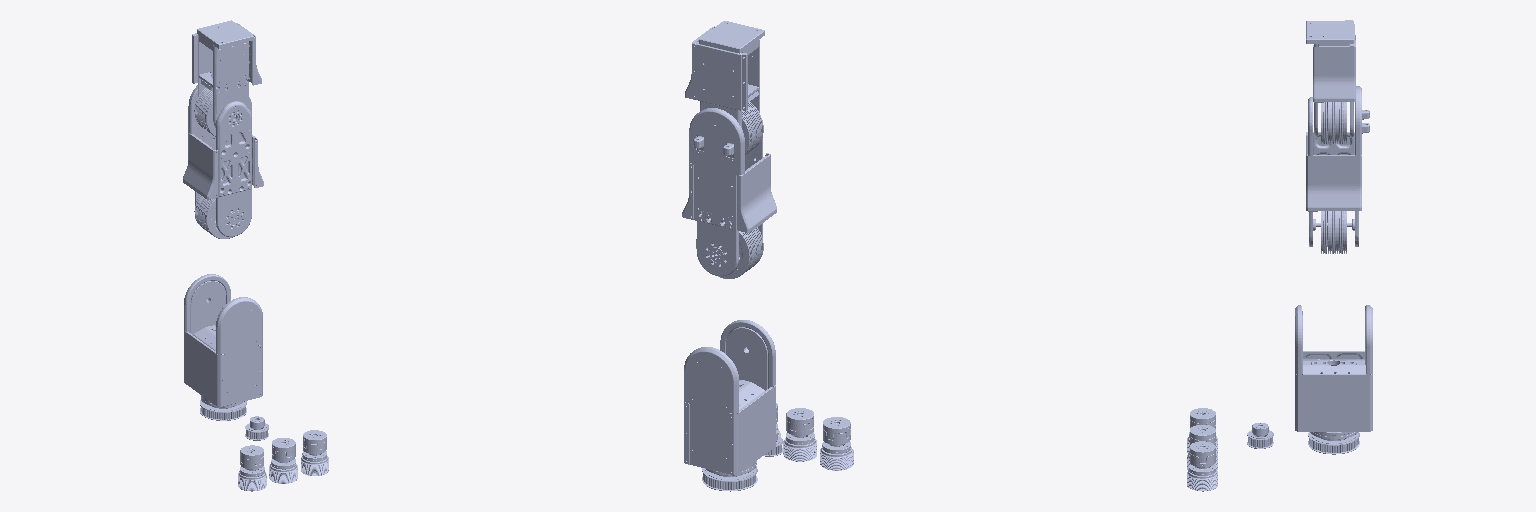
URDF robot description (pmi_description):
<?xml version="1.0" encoding="utf-8"?>
<!-- This URDF was automatically created by SolidWorks to URDF Exporter! Originally created by Stephen Brawner (brawner@gmail.com) 
     Commit Version: 1.6.0-4-g7f85cfe  Build Version: 1.6.7995.38578
     For more information, please see http://wiki.ros.org/sw_urdf_exporter -->
<!-- link1–link4 mass/COM/inertia: same as PMI_Server gravity model (pmi_kinematics / analysis/cpp ControlMain::read_data). -->
<robot
  name="pmi_description">
  <link
    name="base_link">
    <inertial>
      <origin
        xyz="0.00094692 -0.024204 0.07333"
        rpy="0 0 0" />
      <mass
        value="2.1494" />
      <inertia
        ixx="0.011337"
        ixy="-1.3746E-06"
        ixz="-1.6639E-06"
        iyy="0.022966"
        iyz="-5.9757E-05"
        izz="0.01236" />
    </inertial>
    <visual>
      <origin
        xyz="0 0 0"
        rpy="0 0 0" />
      <geometry>
        <mesh
          filename="package://pmi_description2/meshes/base_link.STL" />
      </geometry>
      <material
        name="">
        <color
          rgba="0.79216 0.81961 0.93333 1" />
      </material>
    </visual>
    <collision>
      <origin
        xyz="0 0 0"
        rpy="0 0 0" />
      <geometry>
        <mesh
          filename="package://pmi_description2/meshes/base_link.STL" />
      </geometry>
    </collision>
  </link>
  <link
    name="link1">
    <inertial>
      <origin
        xyz="0.0026336 -1.68446E-05 -0.111117"
        rpy="0 0 0" />
      <mass
        value="10.0123496865811" />
      <inertia
        ixx="0.0829601614566715"
        ixy="-0.000328089653994623"
        ixz="-0.000119428008908532"
        iyy="0.0391199810914461"
        iyz="0.00000209012210735718"
        izz="0.0649458588226152" />
    </inertial>
    <visual>
      <origin
        xyz="0 0 0"
        rpy="0 0 0" />
      <geometry>
        <mesh
          filename="package://pmi_description2/meshes/link1.STL" />
      </geometry>
      <material
        name="">
        <color
          rgba="0.79216 0.81961 0.93333 1" />
      </material>
    </visual>
    <collision>
      <origin
        xyz="0 0 0"
        rpy="0 0 0" />
      <geometry>
        <mesh
          filename="package://pmi_description2/meshes/link1.STL" />
      </geometry>
    </collision>
  </link>
  <joint
    name="q1_jnt"
    type="revolute">
    <origin
      xyz="0 0 -0.02"
      rpy="-3.1416 0 -3.1352" />
    <parent
      link="base_link" />
    <child
      link="link1" />
    <axis
      xyz="0 0 1" />
    <limit
      lower="-3.14"
      upper="3.14"
      effort="10"
      velocity="100" />
    <mimic
      joint="q1_act"
      multiplier="0.5333333333333333"
      offset="0" />
  </joint>
  <link
    name="link2">
    <inertial>
      <origin
        xyz="6.90559E-05 -0.0851548 -0.00686211"
        rpy="0 0 0" />
      <mass
        value="10.4391437674567" />
      <inertia
        ixx="0.0780970193464117"
        ixy="0.0000353131298101708"
        ixz="-0.00000881620777833472"
        iyy="0.0255871855807303"
        iyz="0.00547282289489732"
        izz="0.0745746466344453" />
    </inertial>
    <visual>
      <origin
        xyz="0 0 0"
        rpy="0 0 0" />
      <geometry>
        <mesh
          filename="package://pmi_description2/meshes/link2.STL" />
      </geometry>
      <material
        name="">
        <color
          rgba="0.79216 0.81961 0.93333 1" />
      </material>
    </visual>
    <collision>
      <origin
        xyz="0 0 0"
        rpy="0 0 0" />
      <geometry>
        <mesh
          filename="package://pmi_description2/meshes/link2.STL" />
      </geometry>
    </collision>
  </link>
  <joint
    name="q2_jnt"
    type="revolute">
    <origin
      xyz="0 0 -0.22"
      rpy="1.5708 0 0.0063959" />
    <parent
      link="link1" />
    <child
      link="link2" />
    <axis
      xyz="0.0063958 0 -0.99998" />
    <limit
      lower="-3.14"
      upper="3.14"
      effort="10"
      velocity="100" />
    <mimic
      joint="q2_act"
      multiplier="0.15"
      offset="0" />
  </joint>
  <link
    name="link3">
    <inertial>
      <origin
        xyz="0.0969069 -3.20036E-05 -0.00548574"
        rpy="0 0 0" />
      <mass
        value="10.3406497234359" />
      <inertia
        ixx="0.0792872354716476"
        ixy="0.00000826042768438978"
        ixz="0.00000543833216931251"
        iyy="0.0227404242493157"
        iyz="0.00431986606376804"
        izz="0.0781409250910383" />
    </inertial>
    <visual>
      <origin
        xyz="0 0 0"
        rpy="0 0 0" />
      <geometry>
        <mesh
          filename="package://pmi_description2/meshes/link3.STL" />
      </geometry>
      <material
        name="">
        <color
          rgba="0.79216 0.81961 0.93333 1" />
      </material>
    </visual>
    <collision>
      <origin
        xyz="0 0 0"
        rpy="0 0 0" />
      <geometry>
        <mesh
          filename="package://pmi_description2/meshes/link3.STL" />
      </geometry>
    </collision>
  </link>
  <joint
    name="q3_jnt"
    type="revolute">
    <origin
      xyz="0 -0.23 0"
      rpy="0.0063959 0 -1.5708" />
    <parent
      link="link2" />
    <child
      link="link3" />
    <axis
      xyz="0 0 -1" />
    <limit
      lower="-3.14"
      upper="3.14"
      effort="10"
      velocity="100" />
    <mimic
      joint="q3_act"
      multiplier="0.3"
      offset="0" />
  </joint>
  <link
    name="link4">
    <inertial>
      <origin
        xyz="0.0675884 0.00443192 0.000679202"
        rpy="0 0 0" />
      <mass
        value="7.01416597186014" />
      <inertia
        ixx="0.0393493190184971"
        ixy="-0.000926169916890393"
        ixz="-0.00000843406506016272"
        iyy="0.0111764686166838"
        iyz="0.000204330936352529"
        izz="0.0410218257620852" />
    </inertial>
    <visual>
      <origin
        xyz="0 0 0"
        rpy="0 0 0" />
      <geometry>
        <mesh
          filename="package://pmi_description2/meshes/link4.STL" />
      </geometry>
      <material
        name="">
        <color
          rgba="0.79216 0.81961 0.93333 1" />
      </material>
    </visual>
    <collision>
      <origin
        xyz="0 0 0"
        rpy="0 0 0" />
      <geometry>
        <mesh
          filename="package://pmi_description2/meshes/link4.STL" />
      </geometry>
    </collision>
  </link>
  <joint
    name="q4_jnt"
    type="revolute">
    <origin
      xyz="0.23 0 0"
      rpy="-3.1416 0 0" />
    <parent
      link="link3" />
    <child
      link="link4" />
    <axis
      xyz="0 0 1" />
    <limit
      lower="-3.14"
      upper="3.14"
      effort="10"
      velocity="100" />
    <mimic
      joint="q4_act"
      multiplier="0.3"
      offset="0" />
  </joint>
  <link
    name="link01">
    <inertial>
      <origin
        xyz="5.5511E-17 8.1332E-18 -0.0061604"
        rpy="0 0 0" />
      <mass
        value="0.031263" />
      <inertia
        ixx="5.9458E-06"
        ixy="-3.8921E-14"
        ixz="-3.2055E-22"
        iyy="5.9458E-06"
        iyz="2.9435E-22"
        izz="7.8696E-06" />
    </inertial>
    <visual>
      <origin
        xyz="0 0 0"
        rpy="0 0 0" />
      <geometry>
        <mesh
          filename="package://pmi_description2/meshes/link01.STL" />
      </geometry>
      <material
        name="">
        <color
          rgba="0.79216 0.81961 0.93333 1" />
      </material>
    </visual>
    <collision>
      <origin
        xyz="0 0 0"
        rpy="0 0 0" />
      <geometry>
        <mesh
          filename="package://pmi_description2/meshes/link01.STL" />
      </geometry>
    </collision>
  </link>
  <joint
    name="q1_act"
    type="revolute">
    <origin
      xyz="0 -0.14 -0.02"
      rpy="-3.1416 0 1.5708" />
    <parent
      link="base_link" />
    <child
      link="link01" />
    <axis
      xyz="0 0 1" />
    <limit
      lower="-3.14"
      upper="3.14"
      effort="10"
      velocity="100" />
  </joint>
  <link
    name="link02">
    <inertial>
      <origin
        xyz="6.5945E-07 9.3491E-07 0.01996"
        rpy="0 0 0" />
      <mass
        value="0.10842" />
      <inertia
        ixx="2.8381E-05"
        ixy="1.7708E-08"
        ixz="3.5646E-09"
        iyy="2.8462E-05"
        iyz="8.7331E-10"
        izz="4.6591E-05" />
    </inertial>
    <visual>
      <origin
        xyz="0 0 0"
        rpy="0 0 0" />
      <geometry>
        <mesh
          filename="package://pmi_description2/meshes/link02.STL" />
      </geometry>
      <material
        name="">
        <color
          rgba="0.79216 0.81961 0.93333 1" />
      </material>
    </visual>
    <collision>
      <origin
        xyz="0 0 0"
        rpy="0 0 0" />
      <geometry>
        <mesh
          filename="package://pmi_description2/meshes/link02.STL" />
      </geometry>
    </collision>
  </link>
  <joint
    name="q2_act"
    type="revolute">
    <origin
      xyz="0 -0.25 -0.02"
      rpy="-3.1416 0 1.5708" />
    <parent
      link="base_link" />
    <child
      link="link02" />
    <axis
      xyz="0 0 1" />
    <limit
      lower="-3.14"
      upper="3.14"
      effort="10"
      velocity="100" />
  </joint>
  <link
    name="link03">
    <inertial>
      <origin
        xyz="-9.2316E-07 7.2482E-07 0.01996"
        rpy="0 0 0" />
      <mass
        value="0.10842" />
      <inertia
        ixx="2.8411E-05"
        ixy="-1.3701E-08"
        ixz="4.0204E-09"
        iyy="2.8432E-05"
        iyz="8.2403E-09"
        izz="4.6591E-05" />
    </inertial>
    <visual>
      <origin
        xyz="0 0 0"
        rpy="0 0 0" />
      <geometry>
        <mesh
          filename="package://pmi_description2/meshes/link03.STL" />
      </geometry>
      <material
        name="">
        <color
          rgba="0.79216 0.81961 0.93333 1" />
      </material>
    </visual>
    <collision>
      <origin
        xyz="0 0 0"
        rpy="0 0 0" />
      <geometry>
        <mesh
          filename="package://pmi_description2/meshes/link03.STL" />
      </geometry>
    </collision>
  </link>
  <joint
    name="q3_act"
    type="revolute">
    <origin
      xyz="0.075 -0.25 -0.02"
      rpy="3.1416 0 1.5708" />
    <parent
      link="base_link" />
    <child
      link="link03" />
    <axis
      xyz="0 0 1" />
    <limit
      lower="-3.14"
      upper="3.14"
      effort="10"
      velocity="100" />
  </joint>
  <link
    name="link04">
    <inertial>
      <origin
        xyz="-9.2316E-07 7.2482E-07 0.01996"
        rpy="0 0 0" />
      <mass
        value="0.10842" />
      <inertia
        ixx="2.8411E-05"
        ixy="-1.3701E-08"
        ixz="4.0204E-09"
        iyy="2.8432E-05"
        iyz="8.2403E-09"
        izz="4.6591E-05" />
    </inertial>
    <visual>
      <origin
        xyz="0 0 0"
        rpy="0 0 0" />
      <geometry>
        <mesh
          filename="package://pmi_description2/meshes/link04.STL" />
      </geometry>
      <material
        name="">
        <color
          rgba="0.79216 0.81961 0.93333 1" />
      </material>
    </visual>
    <collision>
      <origin
        xyz="0 0 0"
        rpy="0 0 0" />
      <geometry>
        <mesh
          filename="package://pmi_description2/meshes/link04.STL" />
      </geometry>
    </collision>
  </link>
  <joint
    name="q4_act"
    type="revolute">
    <origin
      xyz="-0.075 -0.25 -0.02"
      rpy="3.1416 0 1.5708" />
    <parent
      link="base_link" />
    <child
      link="link04" />
    <axis
      xyz="0 0 1" />
    <limit
      lower="-3.14"
      upper="3.14"
      effort="10"
      velocity="100" />
  </joint>
</robot>

--- Render facts (derived) ---
3 views of the same robot in one strip: view 1: azimuth 30°, elevation 25°; view 2: azimuth 150°, elevation 25°; view 3: azimuth 270°, elevation 25° (orthographic).
Model pmi_description with 9 links and 8 joints (8 revolute), rooted at base_link, posed every joint at zero.
Links seen in each view (by area): view 1: link1, link3, link4, link02, link04, link03; view 2: link1, link3, link4, link04, link02; view 3: link1, link3, link4, link03, link01.
Link boxes in pixels (box(x1,y1,x2,y2)): link1: box(184, 274, 262, 420); link3: box(183, 85, 263, 238); link4: box(192, 20, 261, 136); link02: box(269, 438, 297, 483); link04: box(238, 445, 266, 491); link03: box(301, 430, 328, 475); link1: box(684, 320, 775, 491); link3: box(682, 108, 776, 278); link4: box(685, 21, 764, 154); link04: box(820, 417, 853, 470); link02: box(783, 408, 816, 461); link1: box(1295, 305, 1372, 454); link3: box(1306, 86, 1369, 253); link4: box(1306, 20, 1355, 144); link03: box(1187, 441, 1217, 491); link01: box(1247, 423, 1273, 448).
Size in the robot's own frame: 0.2099 by 0.3543 by 0.922 metres.
Meshes: 9 distinct files referenced, 7 mesh visuals loaded (7 binary STL); not drawn: 2 (reference not matched to a file when rendering).
